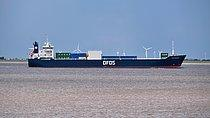Ship: (27, 33, 189, 70)
